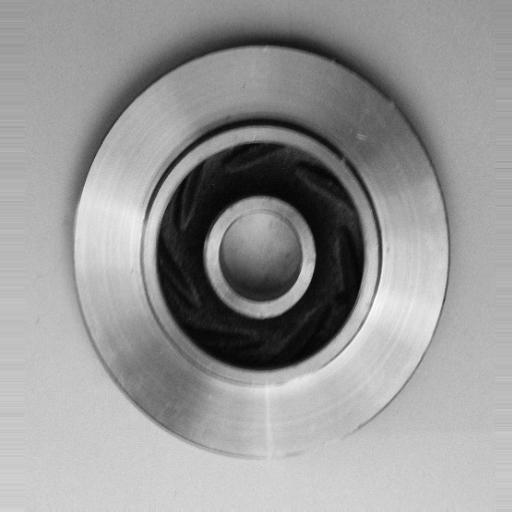unpolished_casting: (70, 42, 452, 459)
